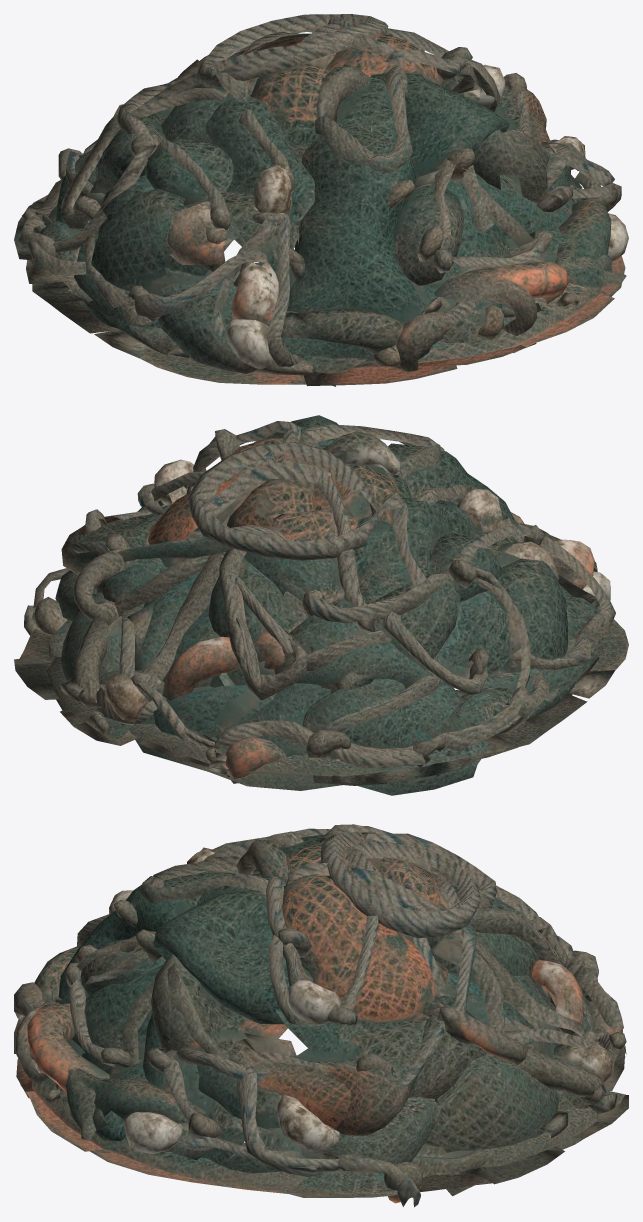
Rendered from net_pile.glb.
3 views of the same model, one above another, from view 1: azimuth 30°, elevation 25°; view 2: azimuth 150°, elevation 25°; view 3: azimuth 270°, elevation 25° (orthographic). The views are drawn at different scales.
Parts seen in each view (by area): view 1: Mesh_0; view 2: Mesh_0; view 3: Mesh_0.
Part boxes in pixels (box(x1,y1,x2,y2)): Mesh_0: box(14, 14, 628, 386); Mesh_0: box(14, 415, 628, 795); Mesh_0: box(14, 824, 628, 1207).
Size of the model in its own units: 2.2 by 0.999 by 2.2.
Materials: 1 (1 with a texture image).
